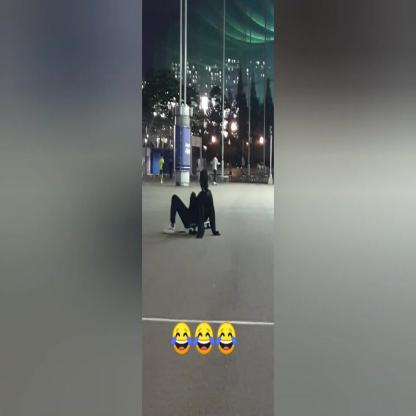Fall_Down: (162, 166, 221, 240)
